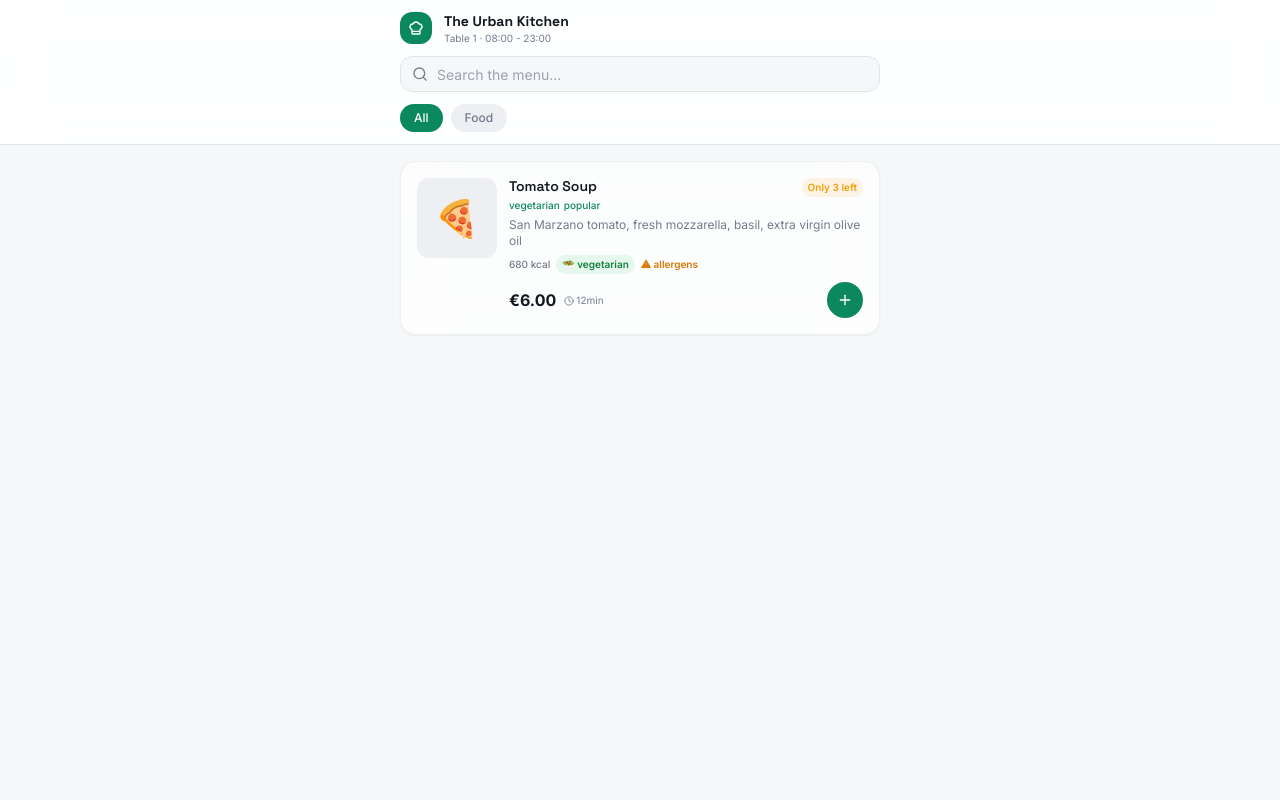
dine-in QR happy path (local mode) › adds an item, places the order and lands on the receipt with Order More back to the table
This screenshot has width=1280, height=800.
Click the heading "Tomato Soup": (555, 187) [509,178,600,196]
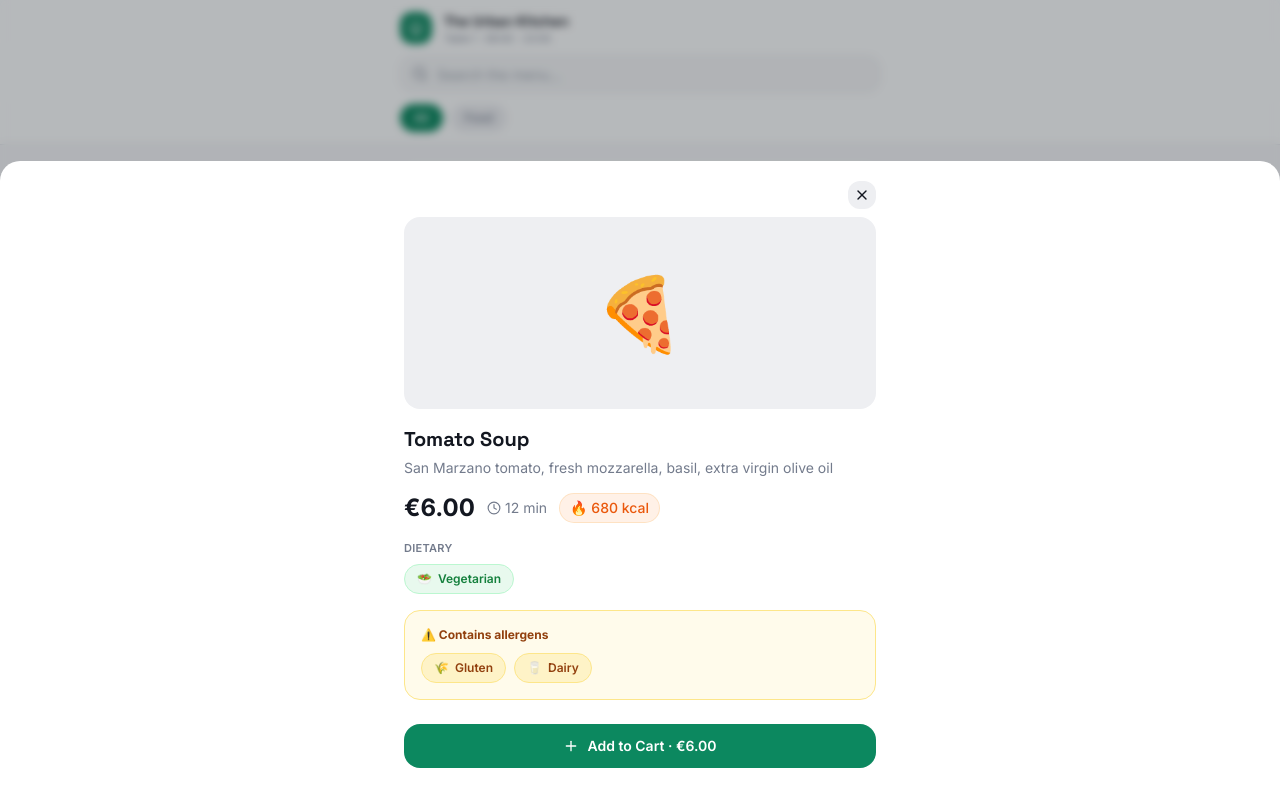
Click the button "Add to Cart · €6.00": (640, 746) [404,724,876,768]
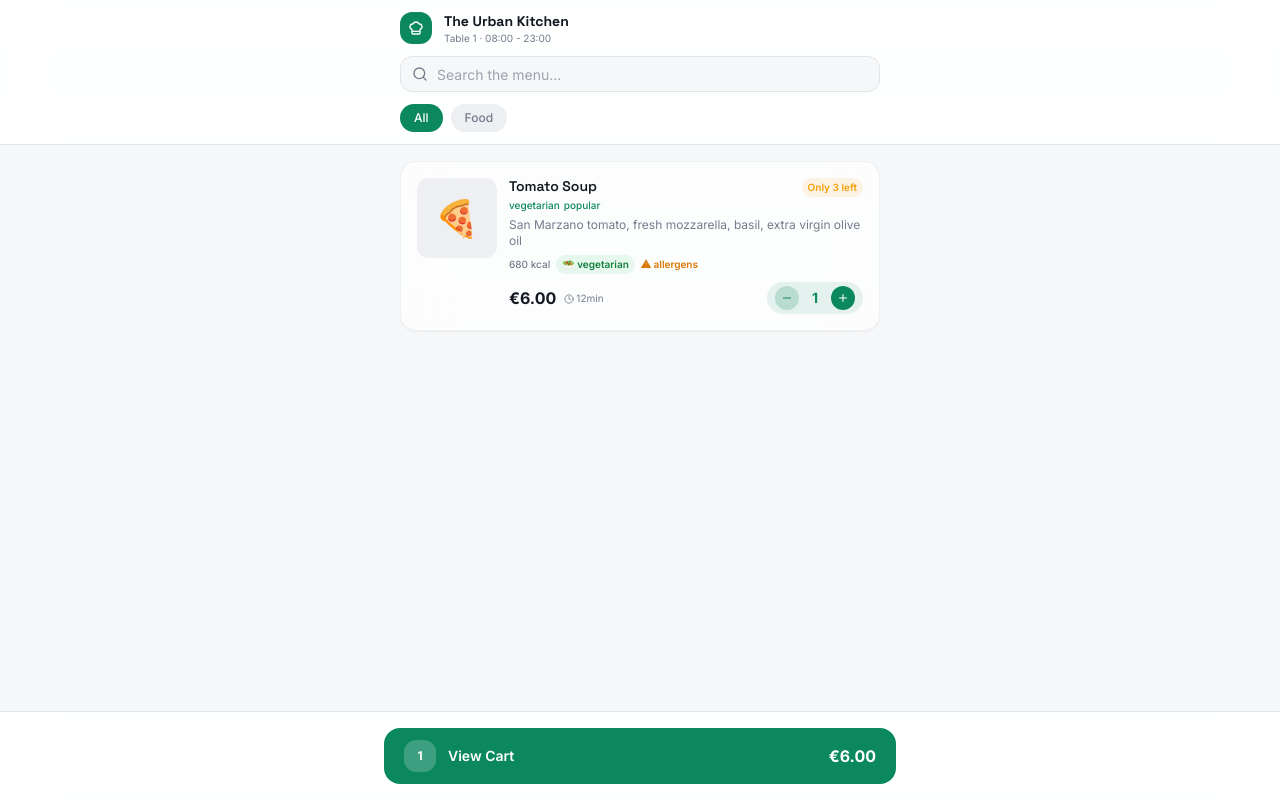
Click the button "1 View Cart €6.00": (420, 756) [384,728,896,784]
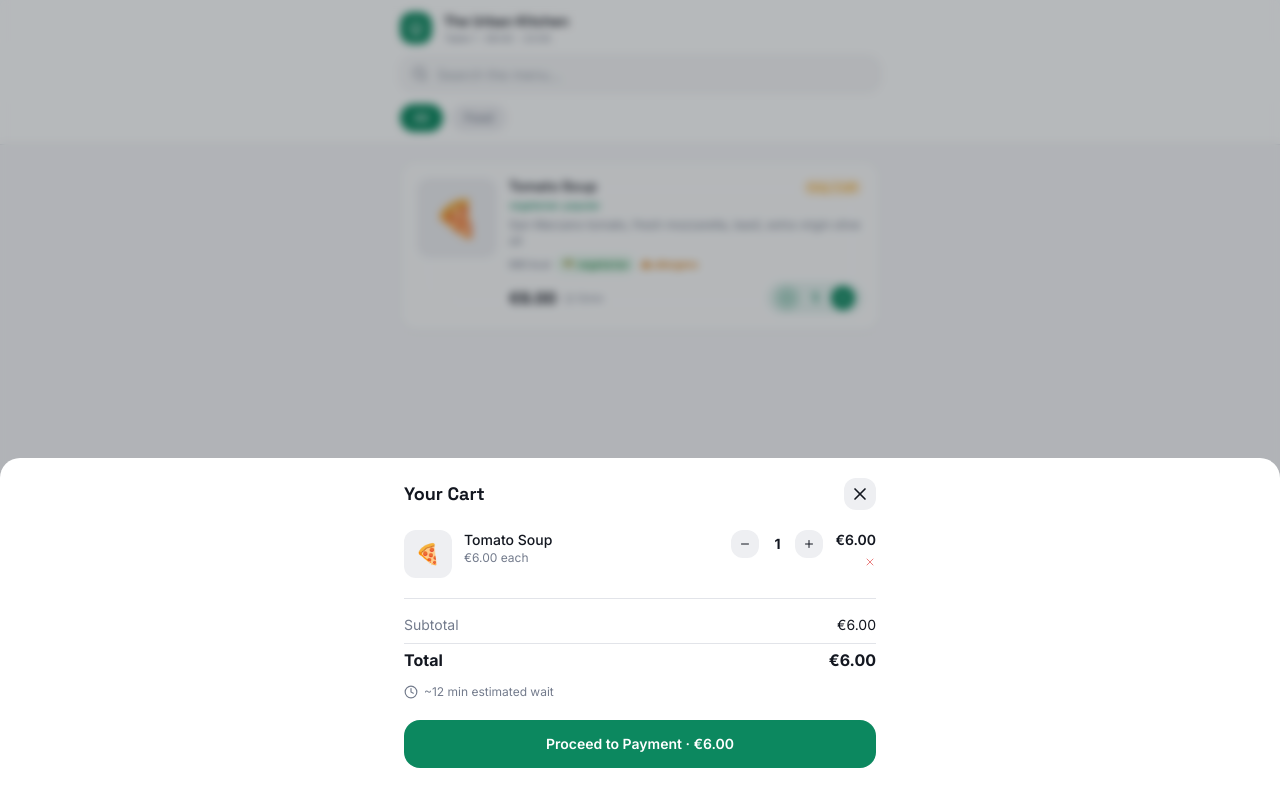
Click the button "Proceed to Payment · €6.00": (640, 744) [404,720,876,768]
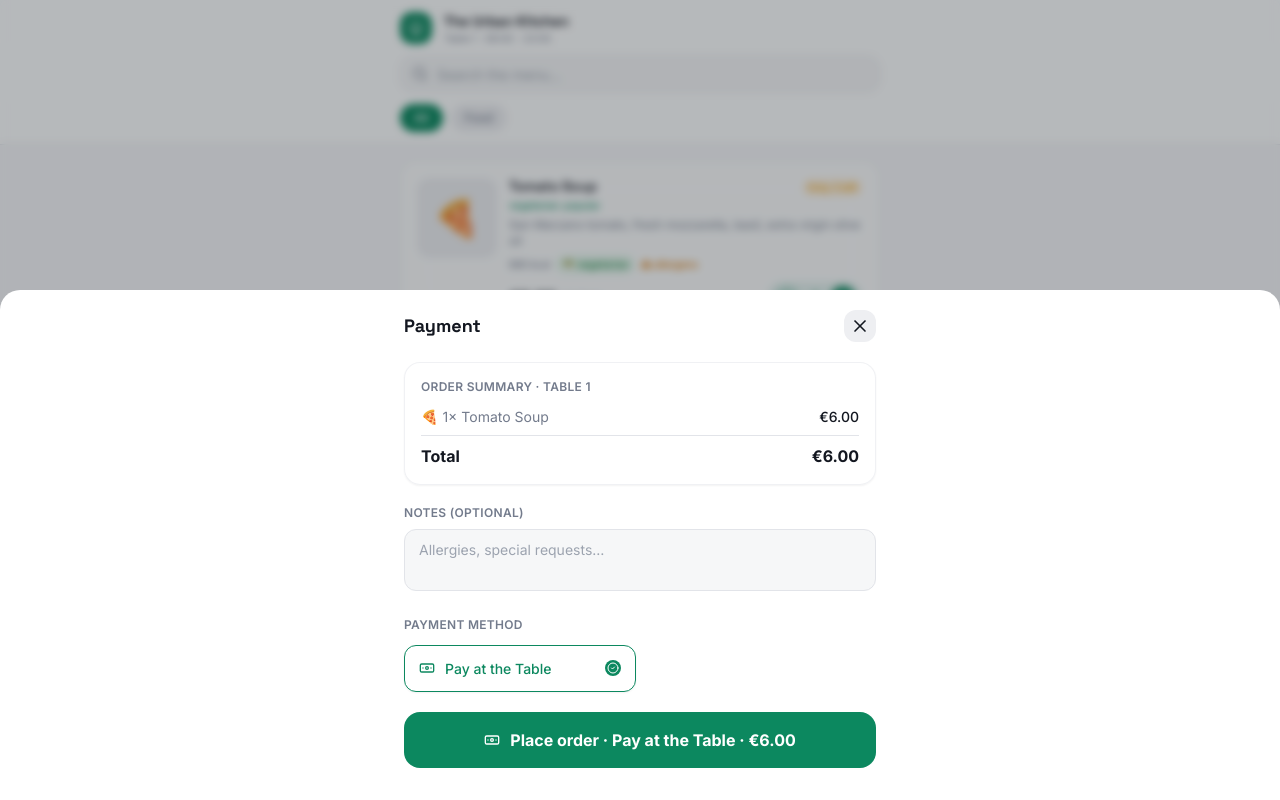
Click the button "Place order · Pay at the Table · €6.00": (640, 740) [404,712,876,768]
(page scrolled)
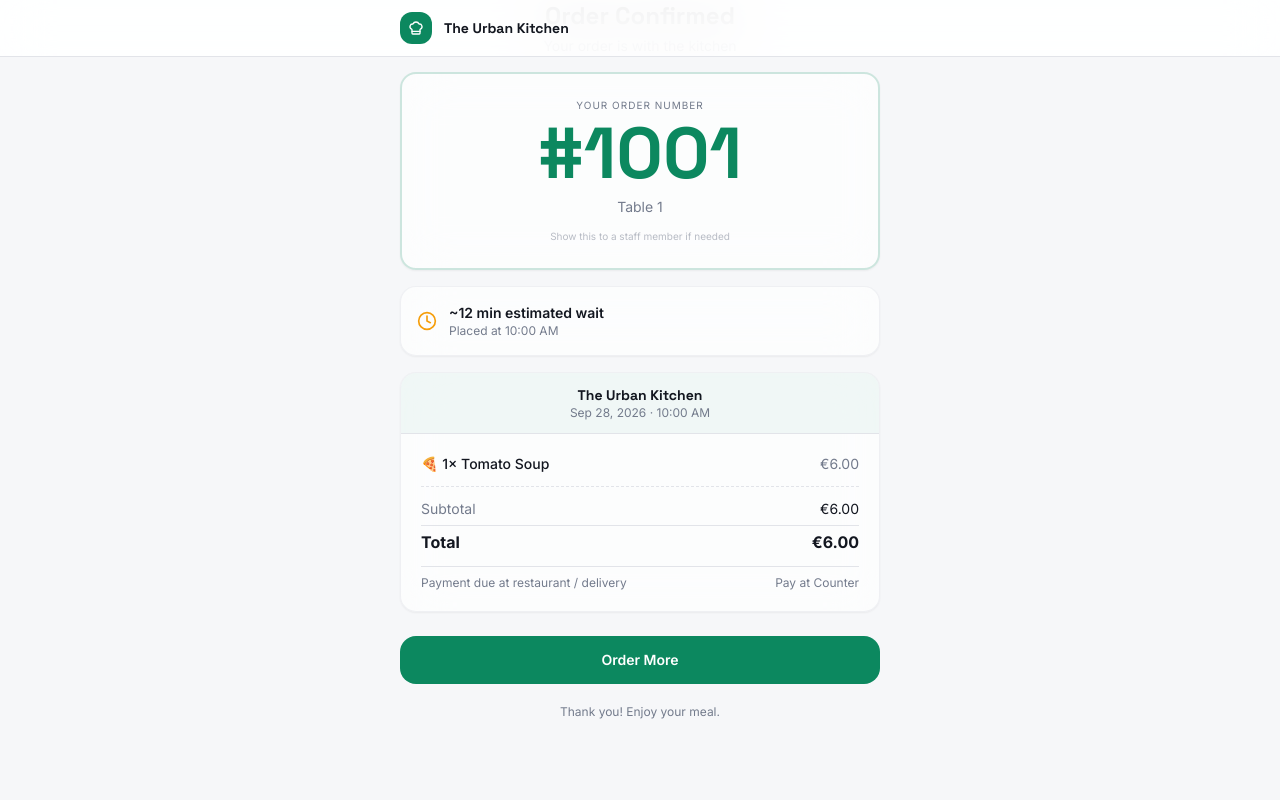
expect the link "Order More" is shown: met, box [400,636,880,684]
